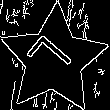L_SE: (26, 32, 82, 87)
